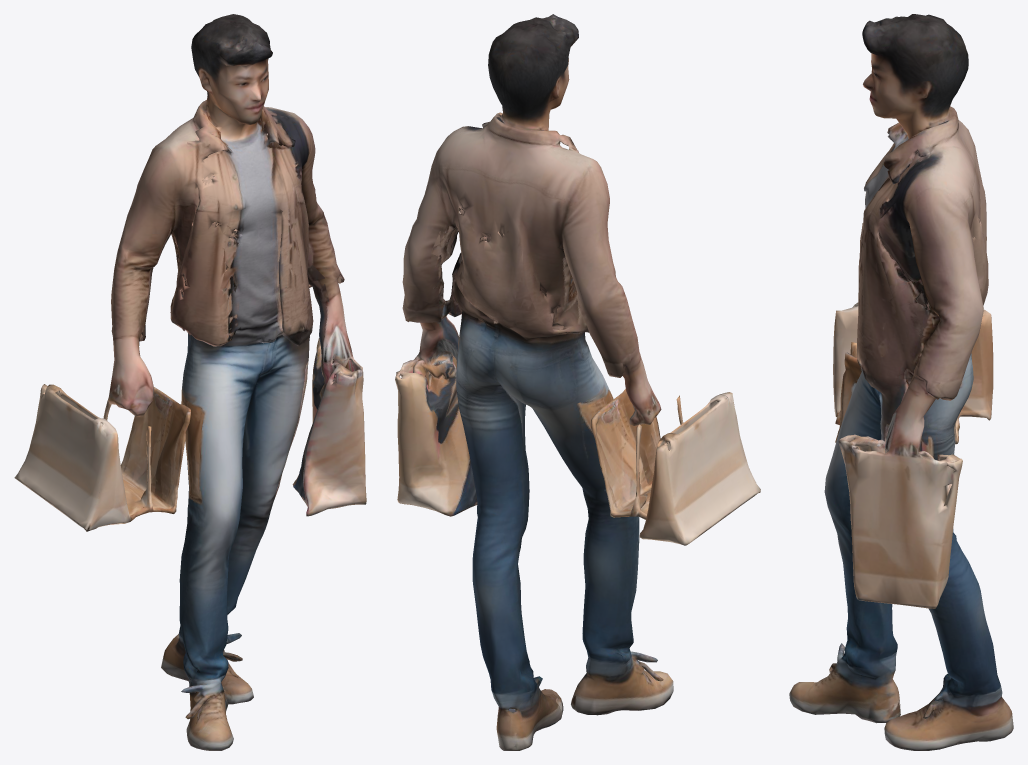
The picture shows the model from 3 angles, left to right: view 1: azimuth 30°, elevation 25°; view 2: azimuth 150°, elevation 25°; view 3: azimuth 270°, elevation 25°; orthographic projection. The views are drawn at different scales.
Parts seen in each view (by area): view 1: Mesh1.0; view 2: Mesh1.0; view 3: Mesh1.0.
Part boxes in pixels (bbox=[...]): Mesh1.0: bbox=[14, 14, 366, 750]; Mesh1.0: bbox=[395, 14, 760, 750]; Mesh1.0: bbox=[789, 14, 1013, 750].
Bounding box in the file's own units: 95.33 × 199 × 55.78.
Materials: 1 (1 with a texture image).
